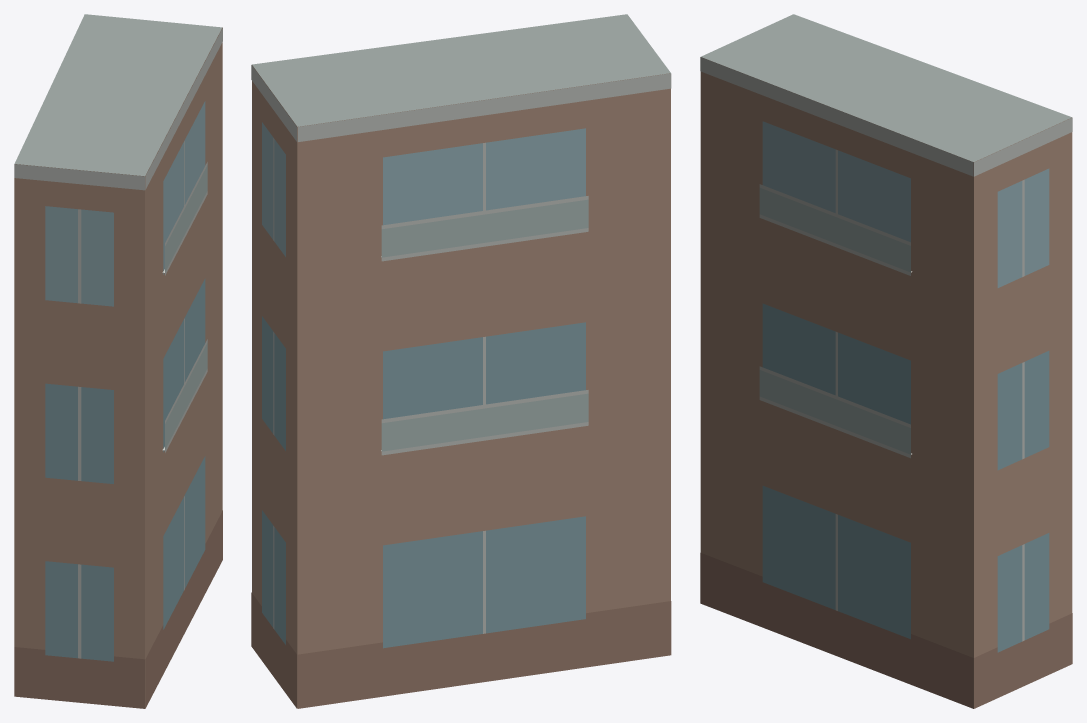
File: survey-upis-32476184.glb
The picture shows the model from 3 angles, left to right: view 1: azimuth 30°, elevation 25°; view 2: azimuth 150°, elevation 25°; view 3: azimuth 270°, elevation 25°; orthographic projection. The views are drawn at different scales.
Visible parts, largest first — view 1: survey-upis-32476184.tmp; view 2: survey-upis-32476184.tmp; view 3: survey-upis-32476184.tmp.
Boxes of the visible parts, x1=… form: survey-upis-32476184.tmp: x1=14, y1=14, x2=222, y2=708; survey-upis-32476184.tmp: x1=251, y1=14, x2=671, y2=708; survey-upis-32476184.tmp: x1=700, y1=14, x2=1072, y2=708.
Bounding box in the file's own units: 5.33 × 9.15 × 5.65.
